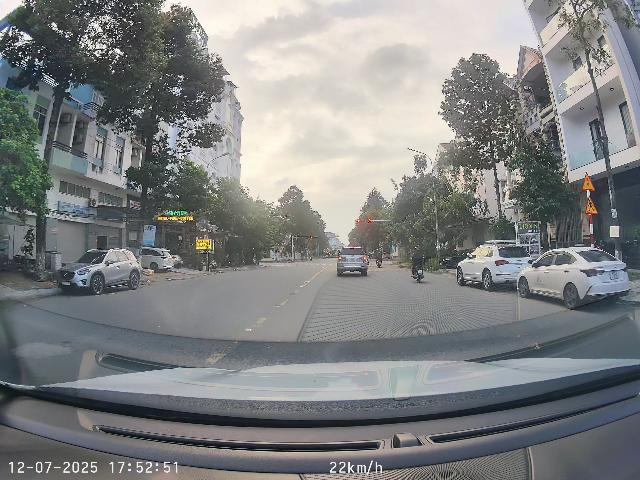209-giao-nhau-co-tin-hieu-den: (582, 172, 596, 191)
224-duong-nguoi-di-bo-cat-ngang: (585, 196, 599, 214)
